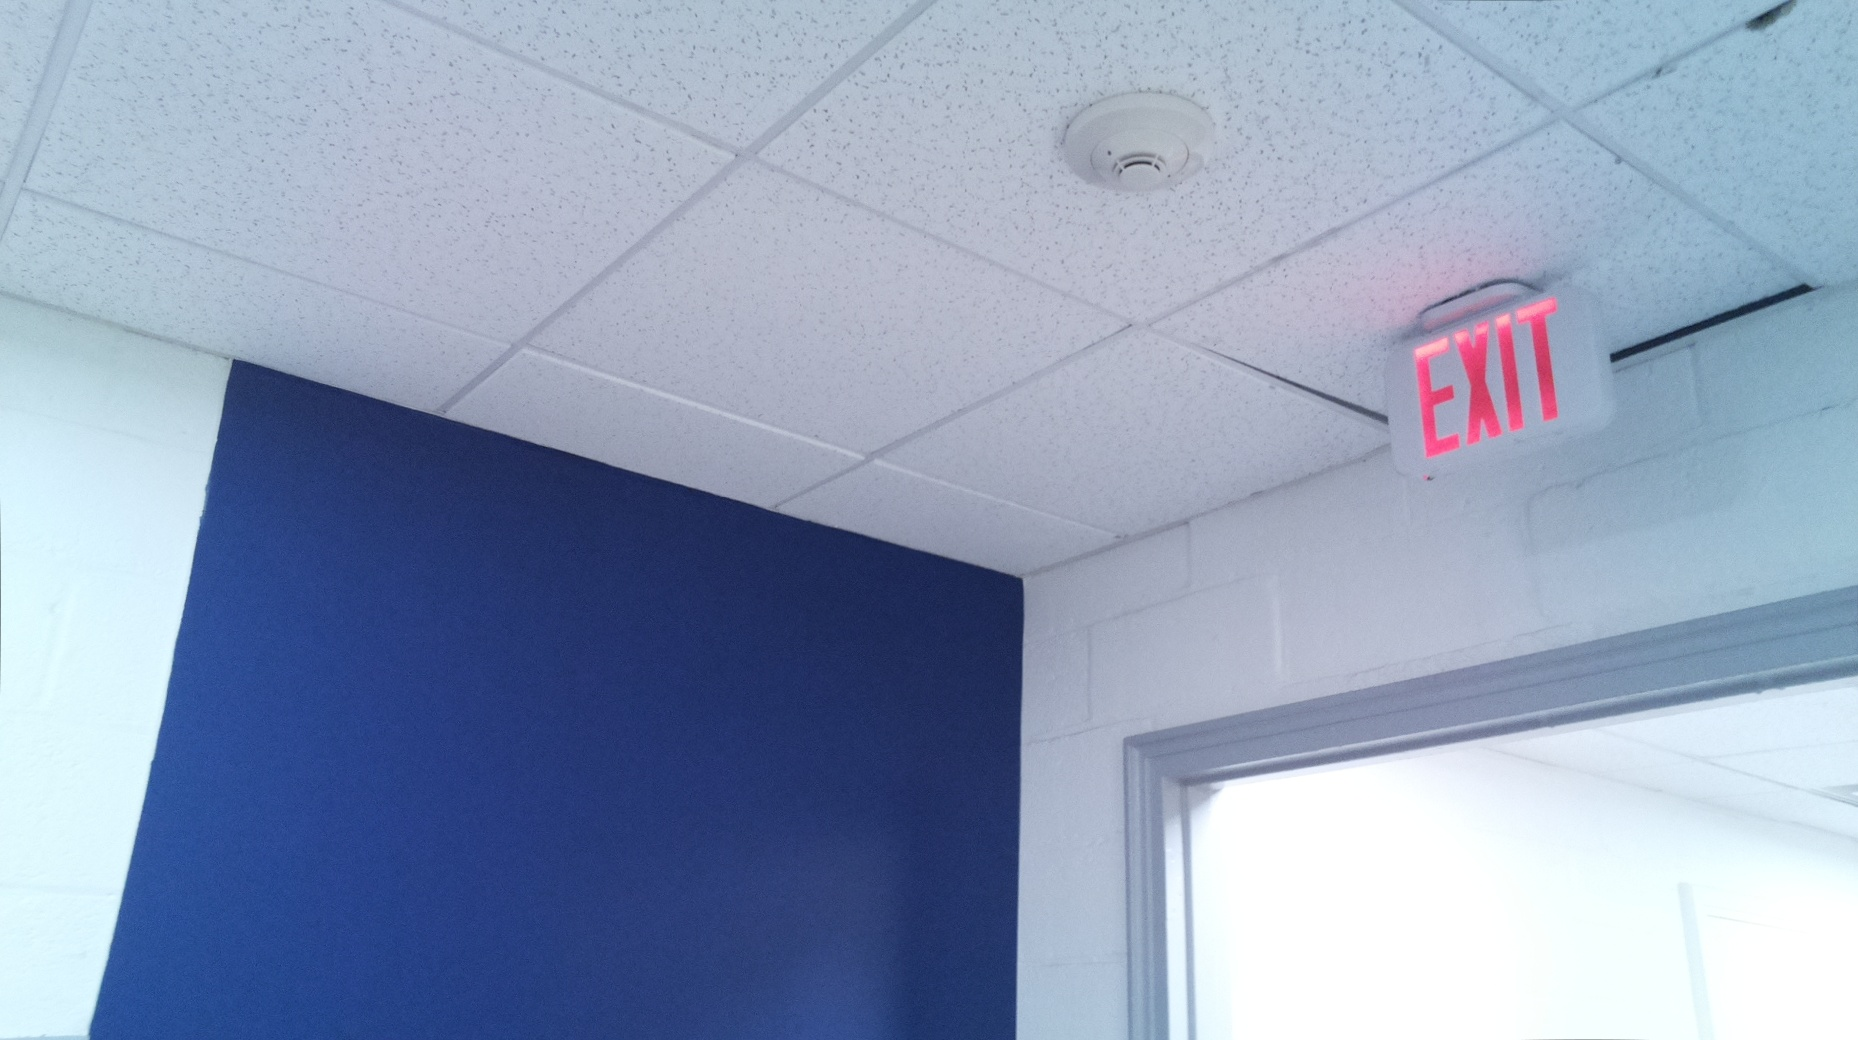exit sign: (1376, 260, 1623, 487)
